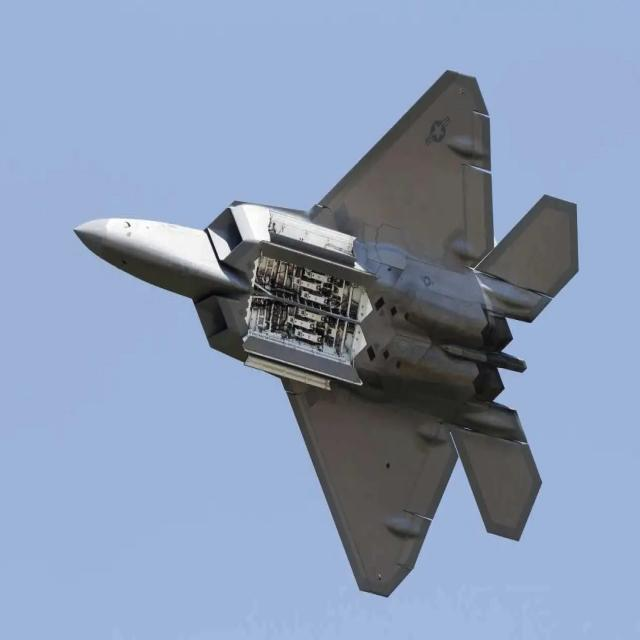F22: (55, 59, 611, 616)
